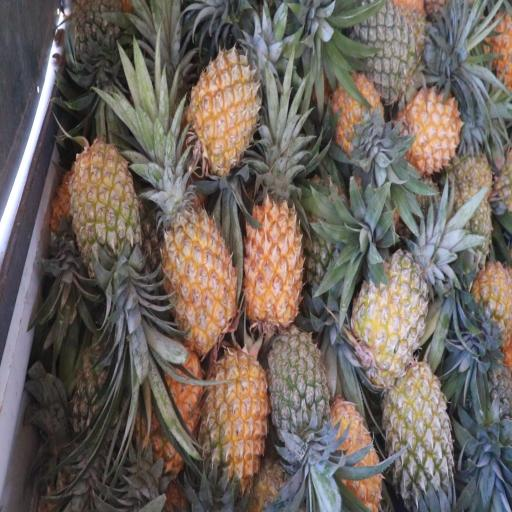------------------------------: (356, 250, 430, 380), (385, 368, 450, 507)
Pineapple - v8 v1: (159, 180, 235, 348), (72, 132, 140, 275), (202, 342, 268, 481), (189, 39, 262, 164), (243, 176, 302, 322), (140, 351, 203, 471), (326, 405, 380, 512), (403, 88, 461, 168), (331, 74, 384, 154), (470, 256, 512, 350)
